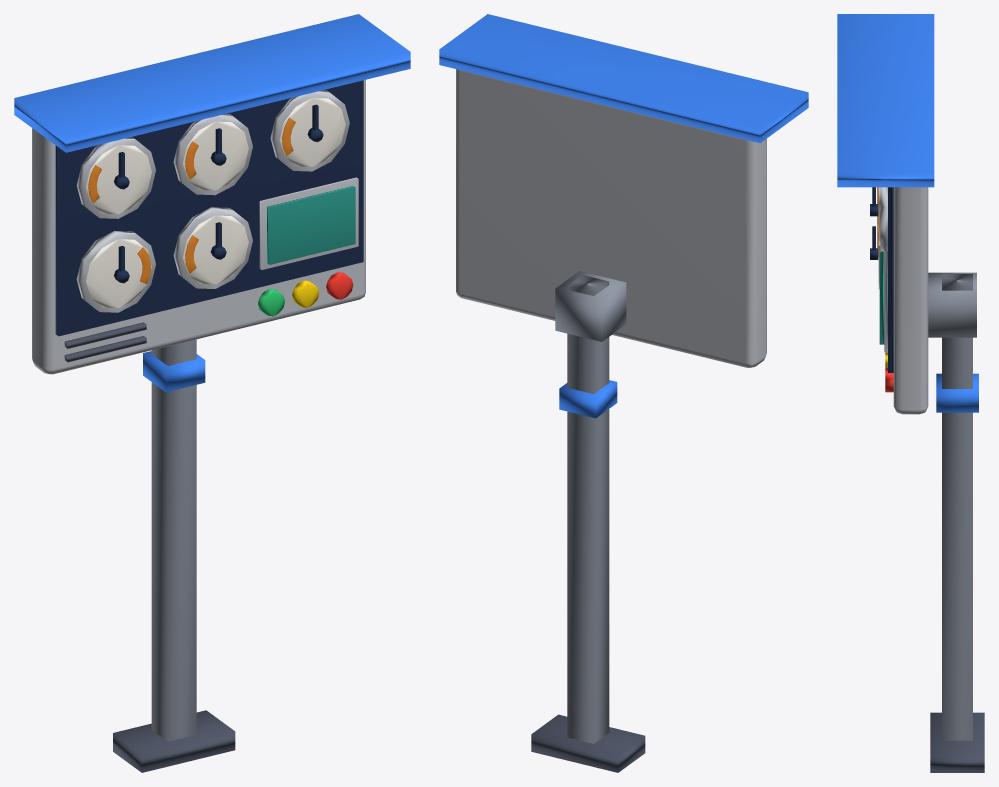
File: Fx_SeatMonitor_MissionPlanner.fbx
3 renders of one model, left to right at view 1: azimuth 30°, elevation 25°; view 2: azimuth 150°, elevation 25°; view 3: azimuth 270°, elevation 25°, orthographic. The views are drawn at different scales.
Visible parts, largest first — view 1: Fx_SeatMonitor_MissionPlanner.Frame, Fx_SeatMonitor_MissionPlanner.Hood, Fx_SeatMonitor_MissionPlanner.Dials, Fx_SeatMonitor_MissionPlanner.Stand, Fx_SeatMonitor_MissionPlanner.MonScreen; view 2: Fx_SeatMonitor_MissionPlanner.Frame, Fx_SeatMonitor_MissionPlanner.Stand, Fx_SeatMonitor_MissionPlanner.Hood; view 3: Fx_SeatMonitor_MissionPlanner.Stand, Fx_SeatMonitor_MissionPlanner.Hood, Fx_SeatMonitor_MissionPlanner.Frame, Fx_SeatMonitor_MissionPlanner.Dials, Fx_SeatMonitor_MissionPlanner.MonScreen.
Part boxes in pixels (bbox=[...]): Fx_SeatMonitor_MissionPlanner.Frame: bbox=[32, 80, 365, 374]; Fx_SeatMonitor_MissionPlanner.Hood: bbox=[14, 14, 410, 152]; Fx_SeatMonitor_MissionPlanner.Dials: bbox=[76, 90, 349, 312]; Fx_SeatMonitor_MissionPlanner.Stand: bbox=[113, 339, 235, 772]; Fx_SeatMonitor_MissionPlanner.MonScreen: bbox=[267, 186, 355, 264]; Fx_SeatMonitor_MissionPlanner.Frame: bbox=[456, 69, 766, 367]; Fx_SeatMonitor_MissionPlanner.Stand: bbox=[531, 271, 645, 772]; Fx_SeatMonitor_MissionPlanner.Hood: bbox=[439, 14, 808, 143]; Fx_SeatMonitor_MissionPlanner.Stand: bbox=[928, 272, 984, 772]; Fx_SeatMonitor_MissionPlanner.Hood: bbox=[837, 14, 934, 187]; Fx_SeatMonitor_MissionPlanner.Frame: bbox=[884, 187, 928, 414]; Fx_SeatMonitor_MissionPlanner.Dials: bbox=[877, 187, 887, 289]; Fx_SeatMonitor_MissionPlanner.MonScreen: bbox=[879, 252, 884, 344].
Bounding box in the file's own units: 0.96 × 1.87 × 0.38.
1 material, 1 textured.
